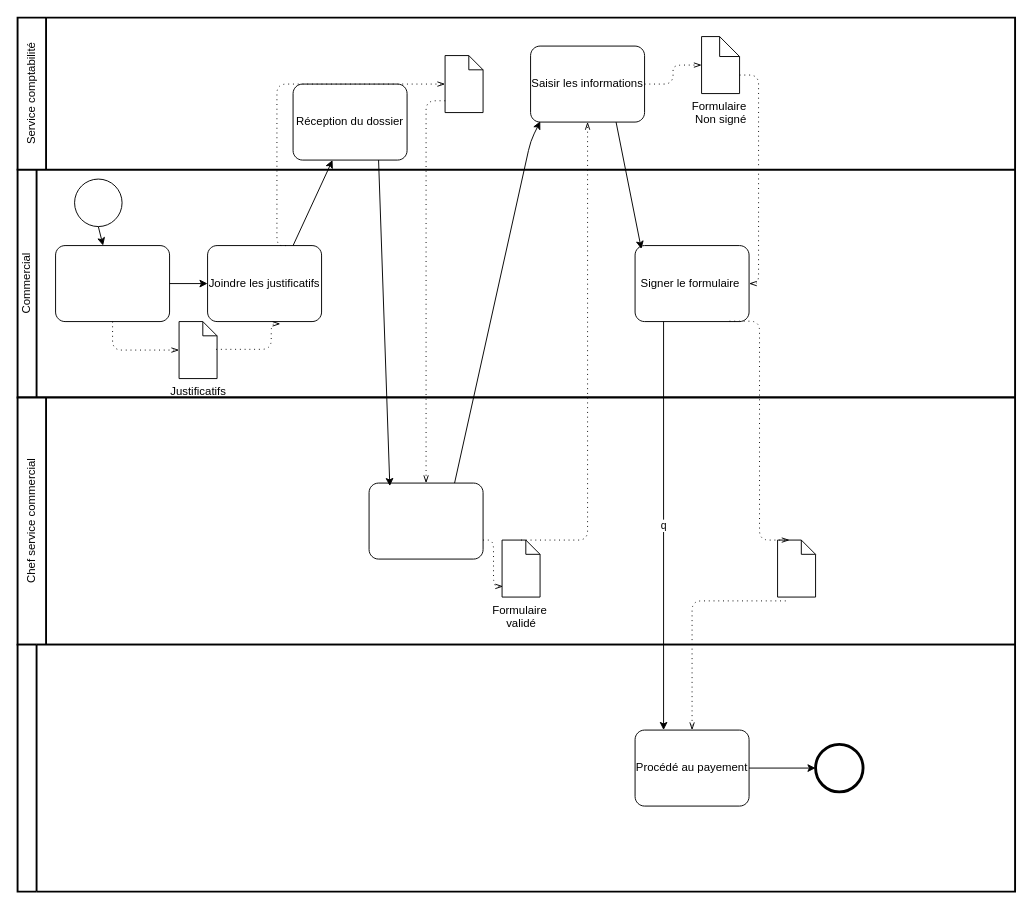
The diagram is 1032 pixels wide and 908 high, and some of its shapes have lost their labels. Here are the shapes that lost their labels. From the top down, the box of each, then its label:
(444, 55, 483, 113): Formulaire Non validé
(55, 245, 170, 322): Remplir le formulaire
(368, 482, 483, 559): Valider les renseignements
(777, 539, 816, 597): Formulaire signé
(16, 643, 1016, 892): Service financier
